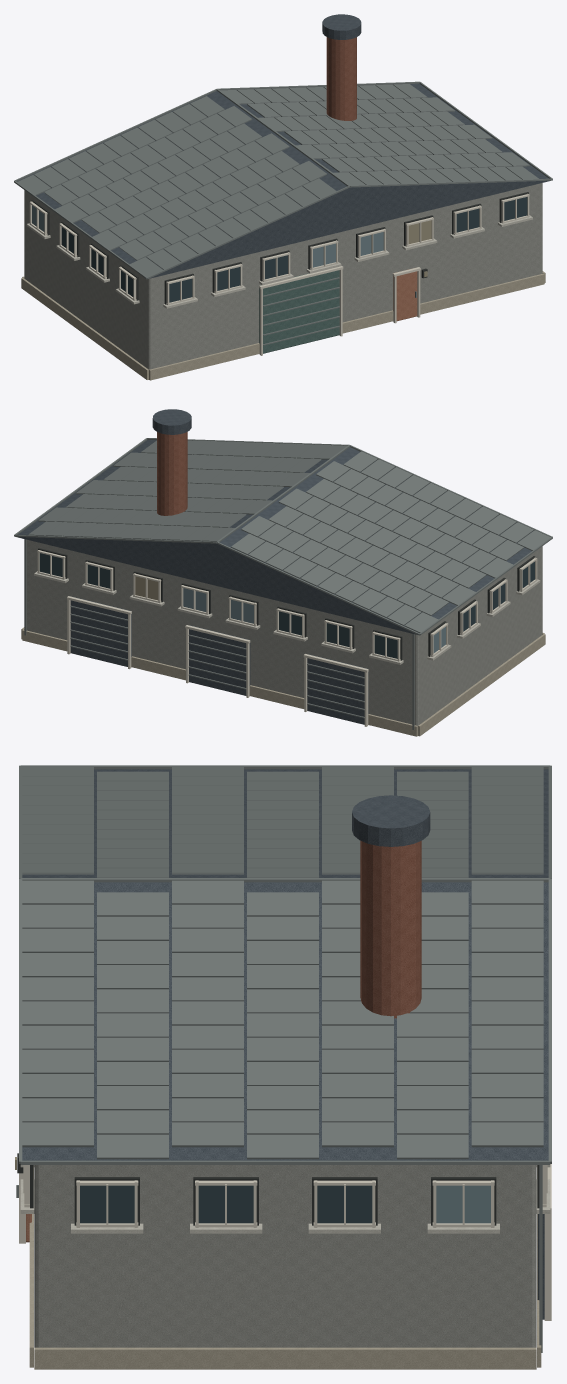
The model's file is IND_LOW_3x2_002.glb.
3 views of the same model, one above another, from view 1: azimuth 30°, elevation 25°; view 2: azimuth 150°, elevation 25°; view 3: azimuth 270°, elevation 25° (orthographic). The views are drawn at different scales.
Parts seen in each view (by area): view 1: IND_LOW_3x2_002_Visual; view 2: IND_LOW_3x2_002_Visual; view 3: IND_LOW_3x2_002_Visual.
Part boxes in pixels (box(x1,y1,x2,y2)): IND_LOW_3x2_002_Visual: box(14, 14, 552, 380); IND_LOW_3x2_002_Visual: box(14, 409, 552, 736); IND_LOW_3x2_002_Visual: box(15, 765, 551, 1369).
Size of what is drawn, in the model's own units: 5.51 by 2.89 by 3.15.
13 materials, 7 textured.
